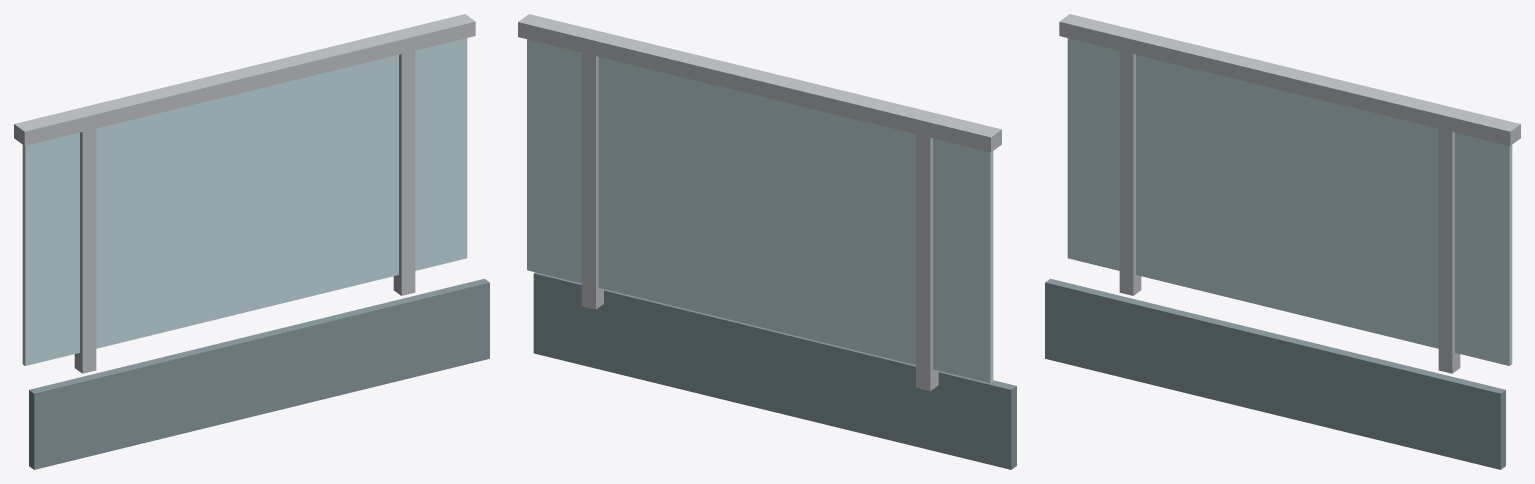
Rendered from atrium_rail.glb.
The picture shows the model from 3 angles, left to right: view 1: azimuth 30°, elevation 25°; view 2: azimuth 150°, elevation 25°; view 3: azimuth 330°, elevation 25°; orthographic projection. The views are drawn at different scales.
Visible parts, largest first — view 1: atrium_rail_glass, atrium_rail_fascia, atrium_rail_steel; view 2: atrium_rail_glass, atrium_rail_fascia, atrium_rail_steel; view 3: atrium_rail_glass, atrium_rail_fascia, atrium_rail_steel.
Boxes of the visible parts, x1,y1,x2,y2 form: atrium_rail_glass: (22,38,467,365); atrium_rail_fascia: (29,278,489,469); atrium_rail_steel: (14,14,475,373); atrium_rail_glass: (527,39,993,383); atrium_rail_fascia: (533,272,1016,469); atrium_rail_steel: (518,14,1001,391); atrium_rail_glass: (1067,38,1512,365); atrium_rail_fascia: (1045,278,1505,469); atrium_rail_steel: (1059,14,1520,373).
Size of the model in its own units: 2 by 1.38 by 0.17.
